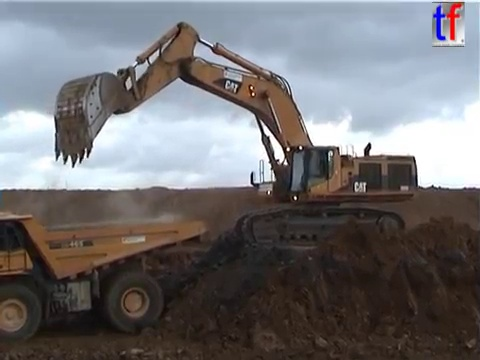excavator: (51, 19, 421, 250)
truck: (1, 208, 212, 346)
